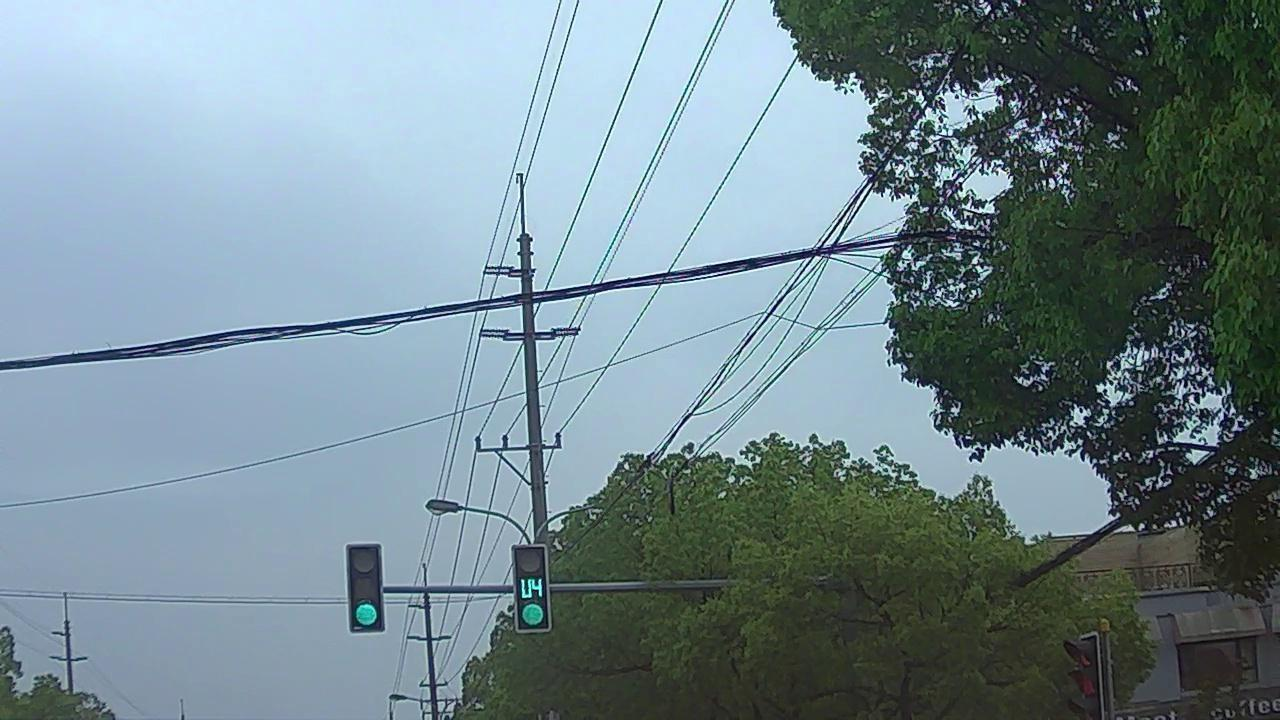traffic_light: (348, 542, 388, 635), (518, 543, 550, 627)
